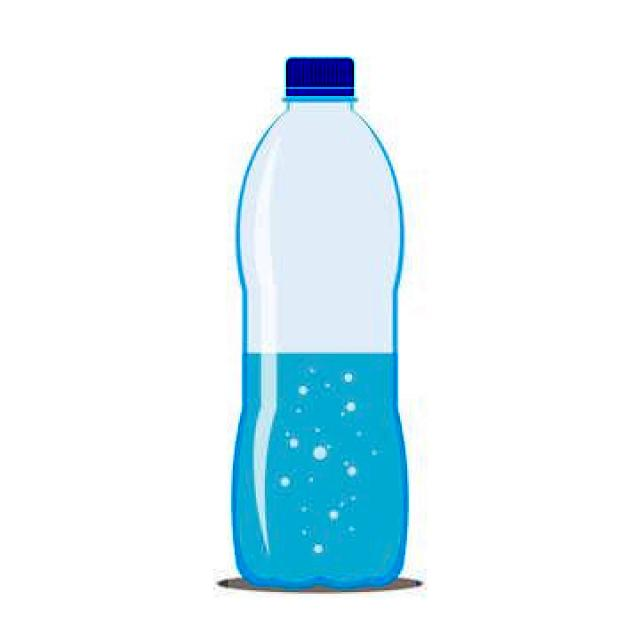half-bottle: (228, 50, 416, 598)
